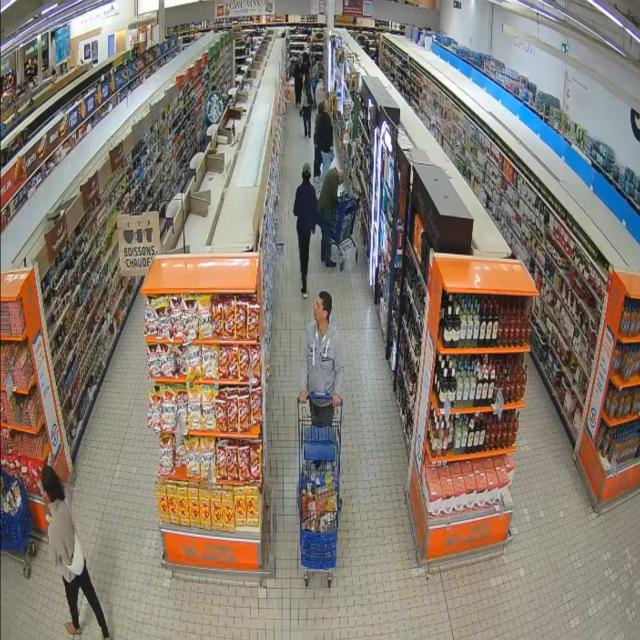article: (45, 510, 51, 524)
bags: (67, 532, 84, 575)
hands: (333, 395, 341, 407), (299, 391, 307, 402)
person: (42, 466, 109, 638), (300, 291, 344, 426), (294, 163, 317, 298), (318, 168, 344, 267), (317, 104, 333, 178), (302, 78, 313, 139)
